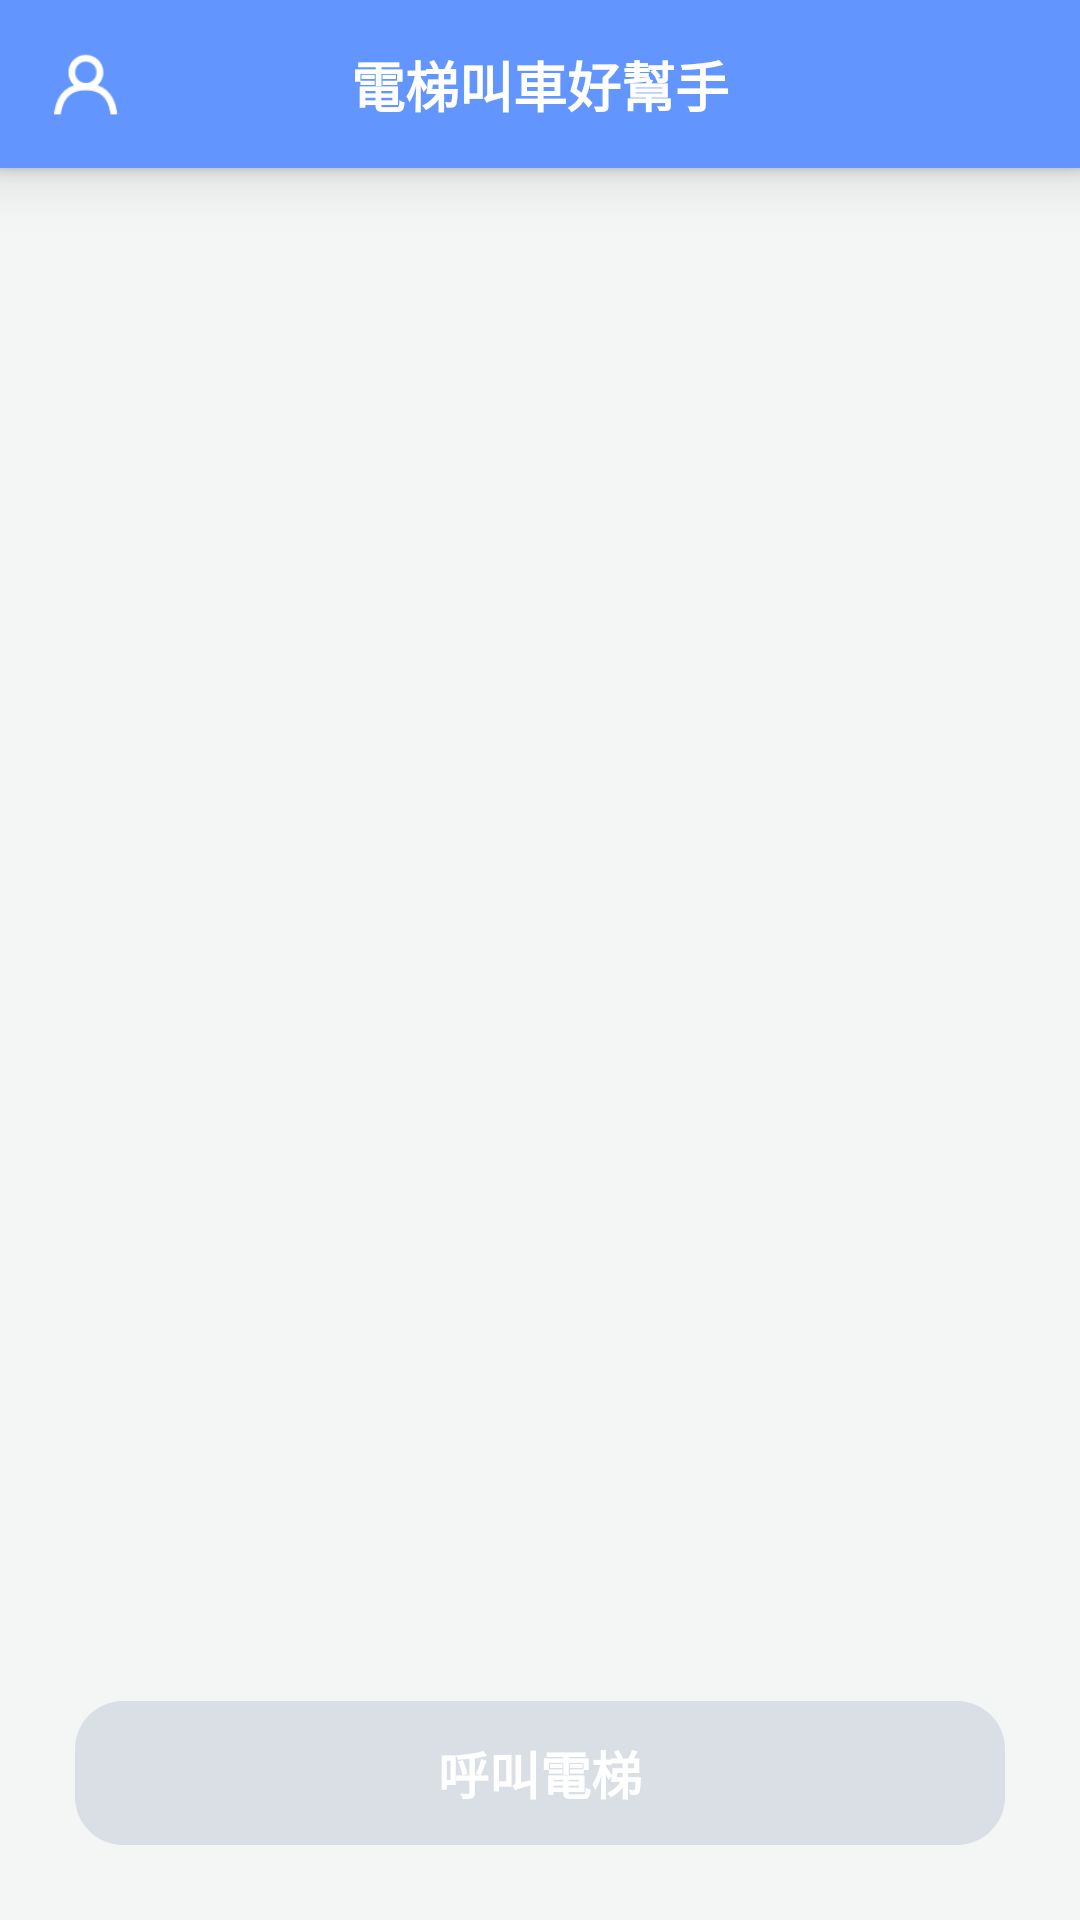

Icons on this 1080 × 1920 Android screen, each with its box as (x1, y1, x2, y2):
profile: (54, 54, 118, 115)
